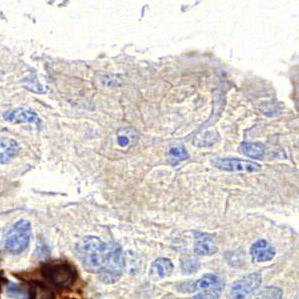Lymphocyte: (17, 256, 86, 299)
